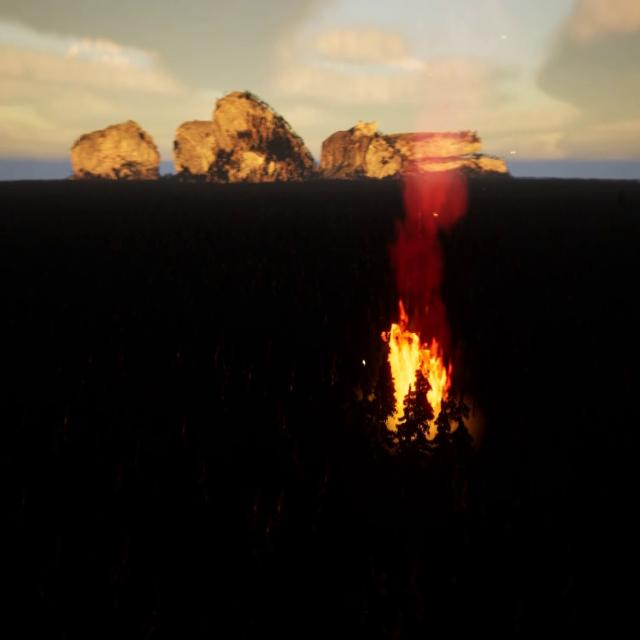fire: (383, 300, 452, 442)
smoke: (396, 142, 474, 317)
